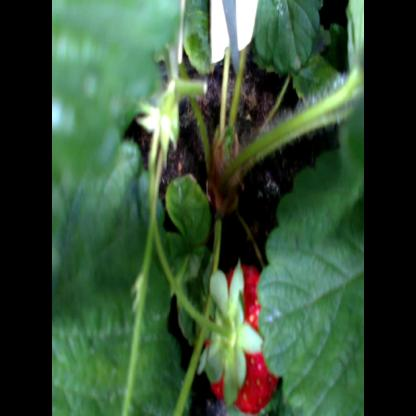ripe: (205, 254, 286, 409)
